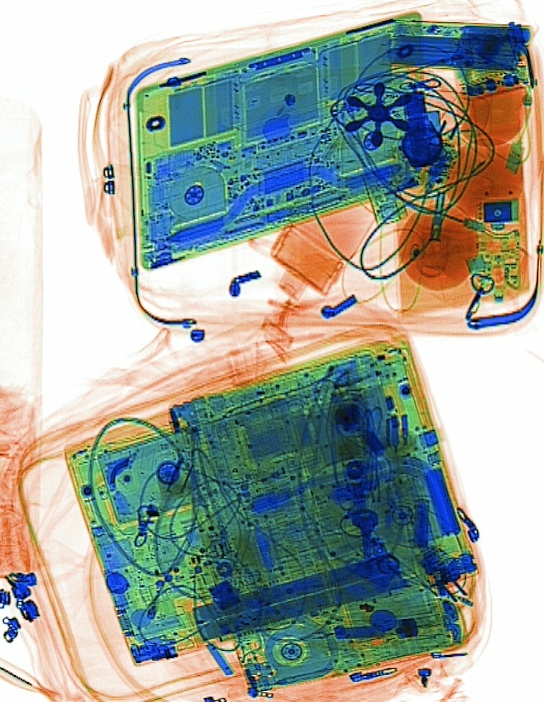powerbank: (384, 15, 536, 77)
